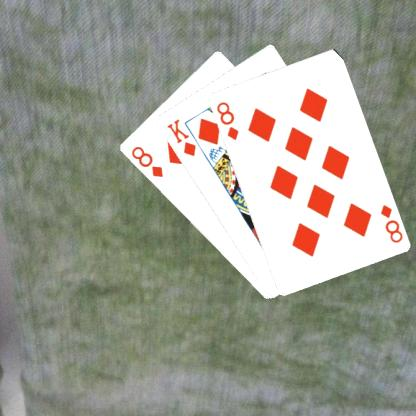8D: (128, 143, 164, 179), (213, 98, 240, 141), (377, 201, 403, 245)
KD: (163, 116, 197, 158)
